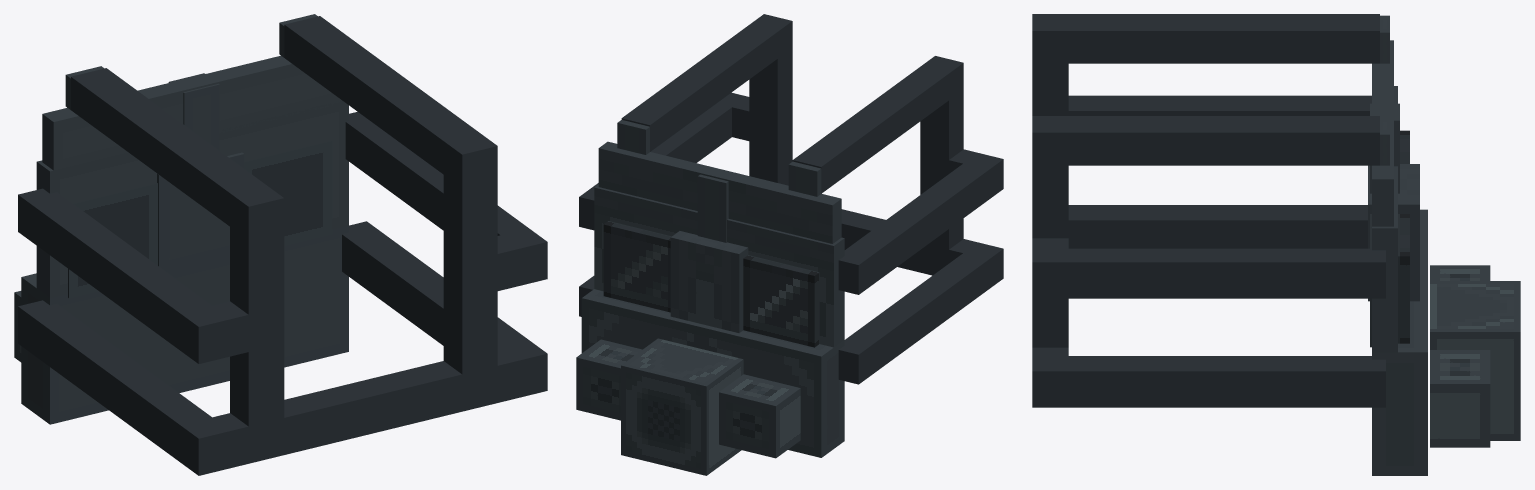
File: m40_gasmask_domesurvival_recolored.glb
The picture shows the model from 3 angles, left to right: view 1: azimuth 30°, elevation 25°; view 2: azimuth 150°, elevation 25°; view 3: azimuth 270°, elevation 25°; orthographic projection. The views are drawn at different scales.
Parts seen in each view (by area): view 1: gasmask_0, gasmask_20, gasmask_21, gasmask_22, gasmask_18, gasmask_17, gasmask_24, gasmask_23, gasmask_16, gasmask_3, gasmask_19, gasmask_2 (+8 smaller); view 2: gasmask_0, gasmask_6, gasmask_21, gasmask_22, gasmask_17, gasmask_18, gasmask_1, gasmask_10, gasmask_9, gasmask_4, gasmask_5, gasmask_7 (+12 smaller); view 3: gasmask_21, gasmask_22, gasmask_16, gasmask_19, gasmask_17, gasmask_6, gasmask_0, gasmask_18, gasmask_8, gasmask_24, gasmask_2, gasmask_12 (+8 smaller).
Part boxes in pixels (<box>): gasmask_0: <box>21,225,348,424</box>; gasmask_20: <box>180,340,547,475</box>; gasmask_21: <box>71,68,284,240</box>; gasmask_22: <box>284,16,497,187</box>; gasmask_18: <box>18,188,211,350</box>; gasmask_17: <box>18,300,211,461</box>; gasmask_24: <box>443,175,497,374</box>; gasmask_23: <box>230,227,284,426</box>; gasmask_16: <box>342,221,528,347</box>; gasmask_3: <box>190,55,344,133</box>; gasmask_19: <box>345,111,528,235</box>; gasmask_2: <box>219,100,348,228</box>; gasmask_0: <box>581,289,844,457</box>; gasmask_6: <box>621,338,743,475</box>; gasmask_21: <box>792,56,963,193</box>; gasmask_22: <box>621,14,792,151</box>; gasmask_17: <box>838,253,988,384</box>; gasmask_18: <box>838,163,988,294</box>; gasmask_1: <box>670,231,748,332</box>; gasmask_10: <box>743,255,819,347</box>; gasmask_9: <box>719,374,800,458</box>; gasmask_4: <box>714,170,841,243</box>; gasmask_5: <box>727,219,844,347</box>; gasmask_7: <box>603,221,671,312</box>; gasmask_21: <box>1032,14,1379,63</box>; gasmask_22: <box>1032,116,1379,165</box>; gasmask_16: <box>1068,356,1385,407</box>; gasmask_19: <box>1068,248,1385,298</box>; gasmask_17: <box>1068,205,1367,248</box>; gasmask_6: <box>1430,281,1520,440</box>; gasmask_0: <box>1372,209,1427,475</box>; gasmask_18: <box>1068,95,1371,115</box>; gasmask_8: <box>1430,350,1490,447</box>; gasmask_24: <box>1032,165,1068,347</box>; gasmask_2: <box>1372,166,1397,352</box>; gasmask_12: <box>1032,238,1068,298</box>.
Size of the model in its own units: 0.6125 by 0.5875 by 0.7594.
Materials: 1 (1 with a texture image).
